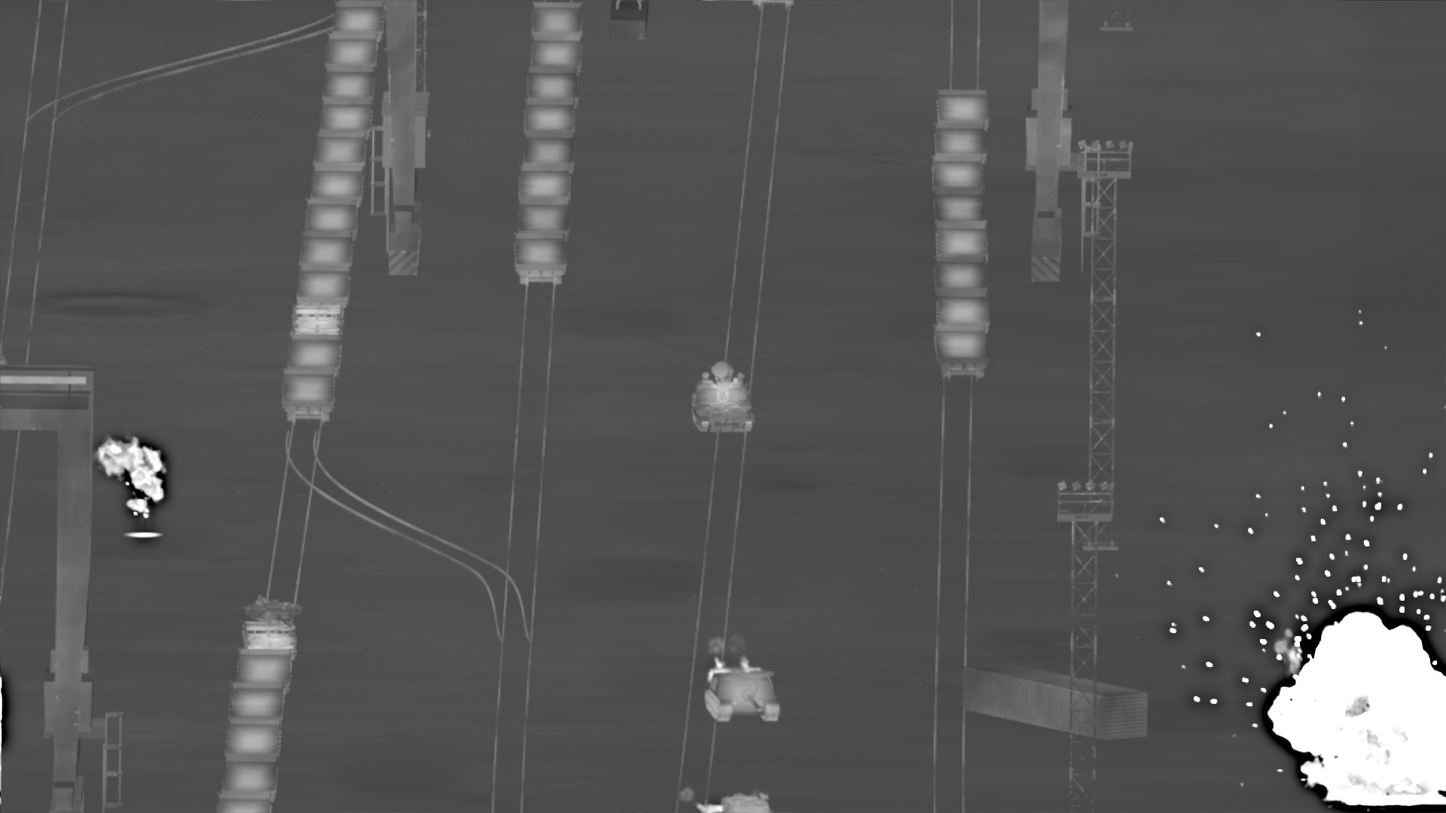spaa_zsu-23: (691, 361, 755, 432)
